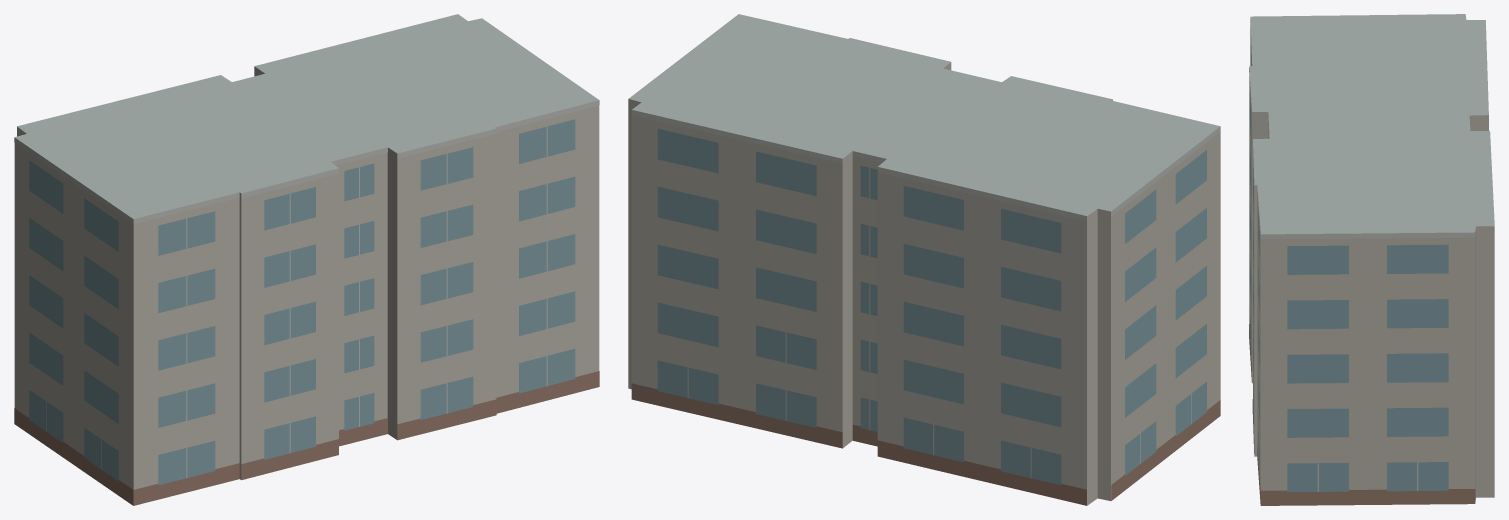
File: survey-upis-32940096.glb
3 views of the same model, side by side, from view 1: azimuth 30°, elevation 25°; view 2: azimuth 150°, elevation 25°; view 3: azimuth 270°, elevation 25° (orthographic). The views are drawn at different scales.
Parts seen in each view (by area): view 1: survey-upis-32940096.tmp; view 2: survey-upis-32940096.tmp; view 3: survey-upis-32940096.tmp.
Boxes of the visible parts, bbox=[...] form: survey-upis-32940096.tmp: bbox=[14, 14, 599, 505]; survey-upis-32940096.tmp: bbox=[628, 14, 1220, 505]; survey-upis-32940096.tmp: bbox=[1249, 14, 1494, 505].
Size of the model in its own units: 23.33 by 13.4 by 11.
